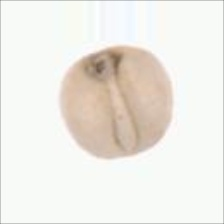L5: (102, 72, 142, 156), (102, 138, 162, 161), (84, 49, 128, 79)
L6: (57, 41, 178, 163)
